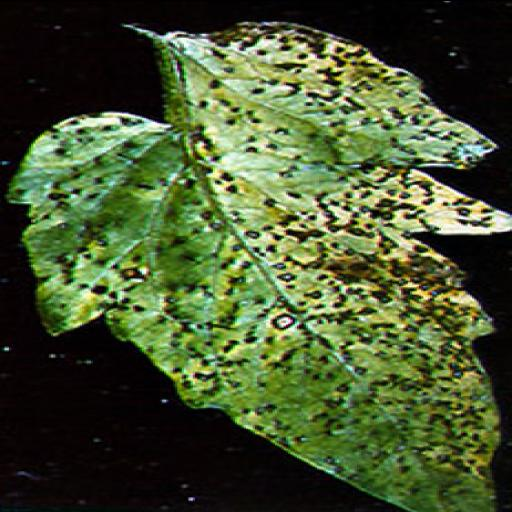Septoria: (0, 9, 512, 512)
